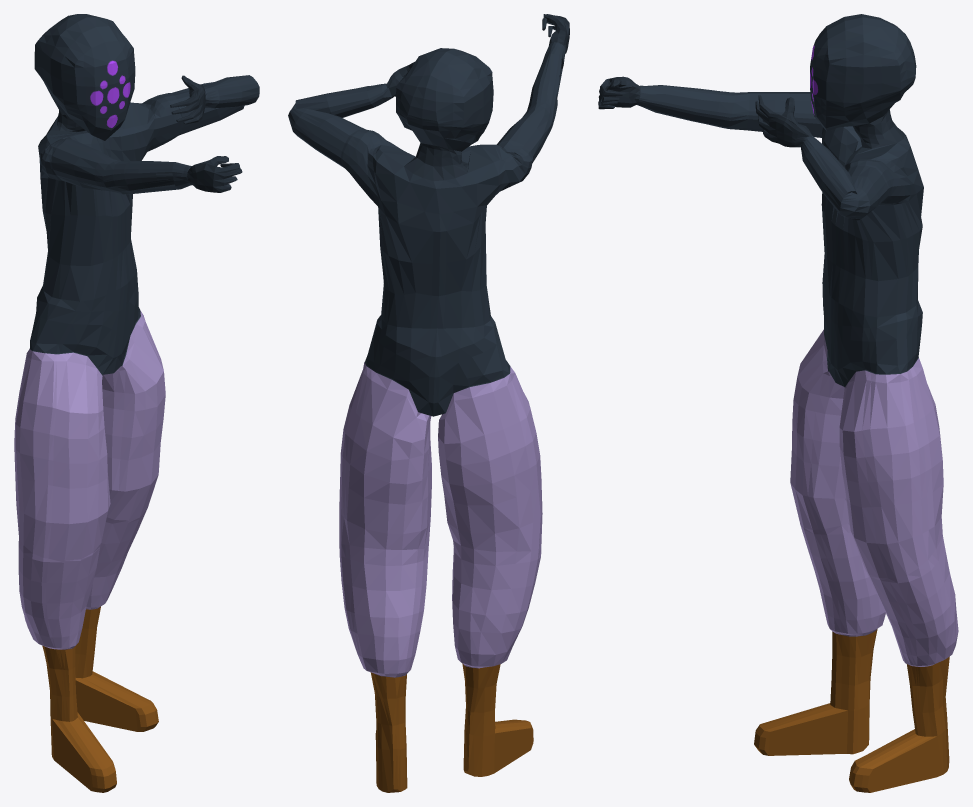
The model's file is Oracle_Attack_000026.obj.
3 views of the same model, side by side, from view 1: azimuth 30°, elevation 25°; view 2: azimuth 150°, elevation 25°; view 3: azimuth 270°, elevation 25° (orthographic). The views are drawn at different scales.
Parts seen in each view (by area): view 1: Cube; view 2: Cube; view 3: Cube.
Boxes of the visible parts, x1=… form: Cube: x1=14, y1=14, x2=259, y2=792; Cube: x1=288, y1=14, x2=569, y2=792; Cube: x1=598, y1=14, x2=958, y2=792.
Bounding box in the file's own units: 1.37 × 3.94 × 1.72.
